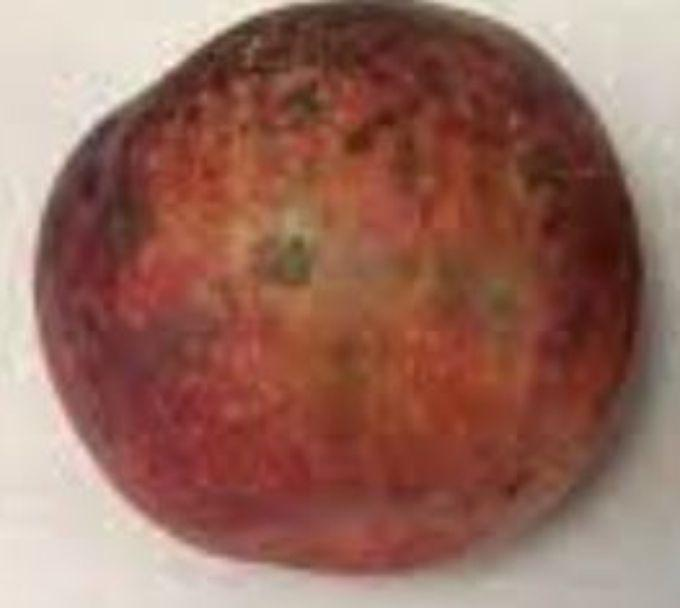BLOTCH: (14, 10, 658, 578)
